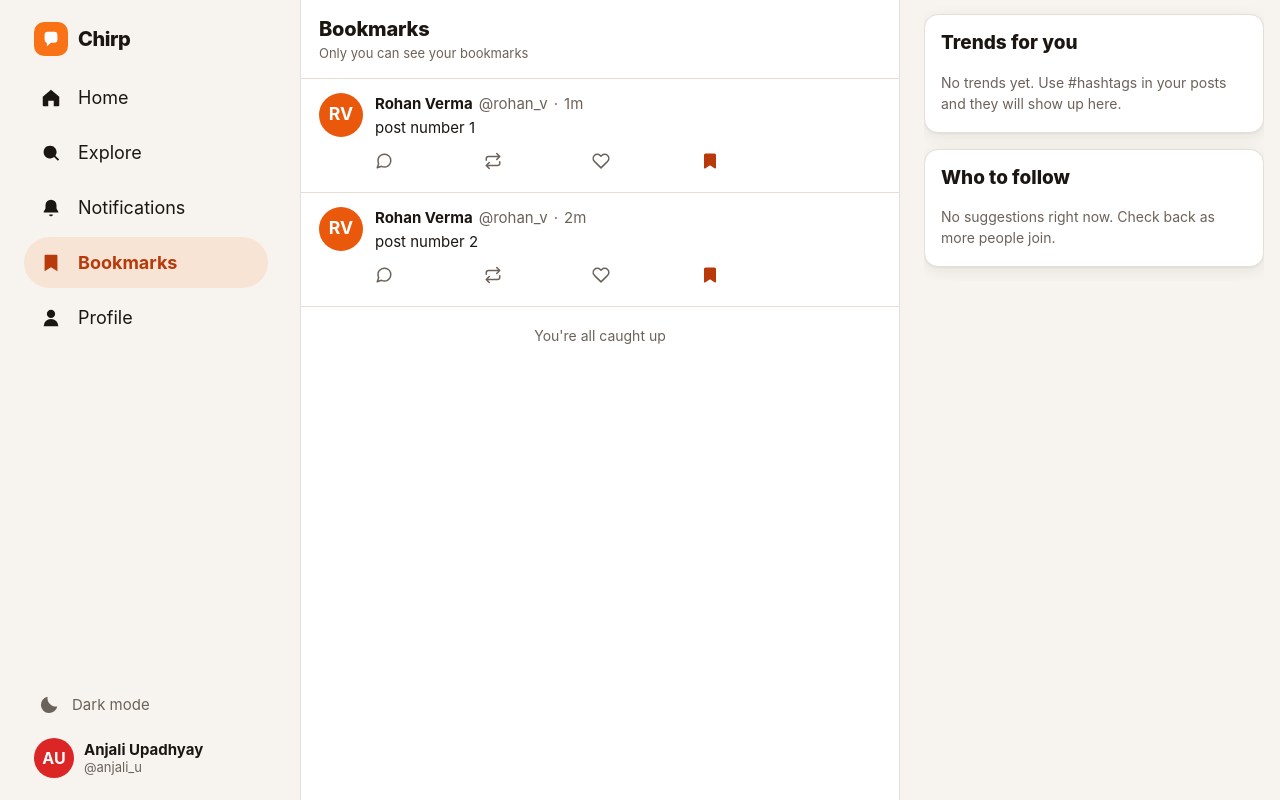
bookmarks › the Bookmarks page lists saved posts, says they are private, and removing one takes it off the page
Check: the text "post number 1" is shown, box [375, 118, 475, 137]
Check: the text "Only you can see your bookmarks" is shown, box [319, 45, 528, 61]
Click the button named "Remove bookmark" below "post number 1" at coordinates (715, 160), box [695, 146, 735, 176]
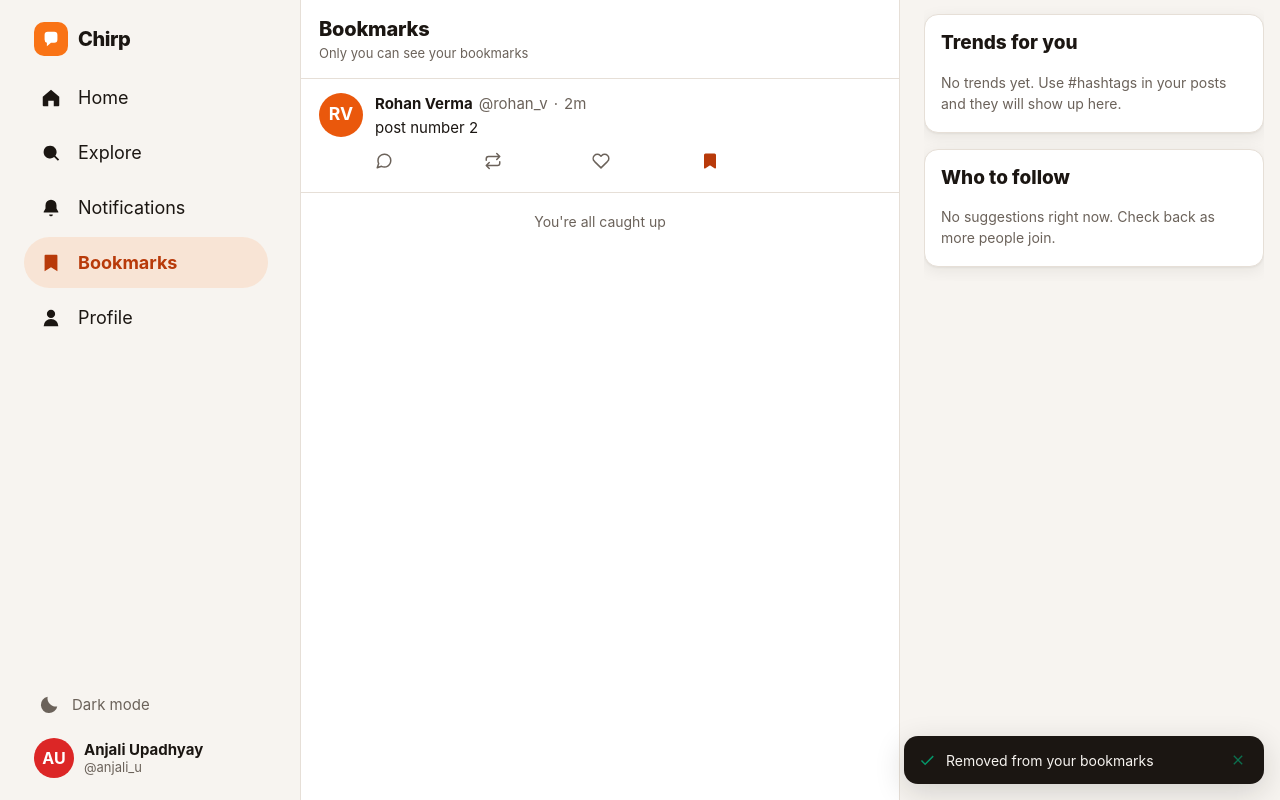
Check: the text "post number 2" is shown, box [375, 118, 478, 137]
Check: the text "post number 1" is gone
